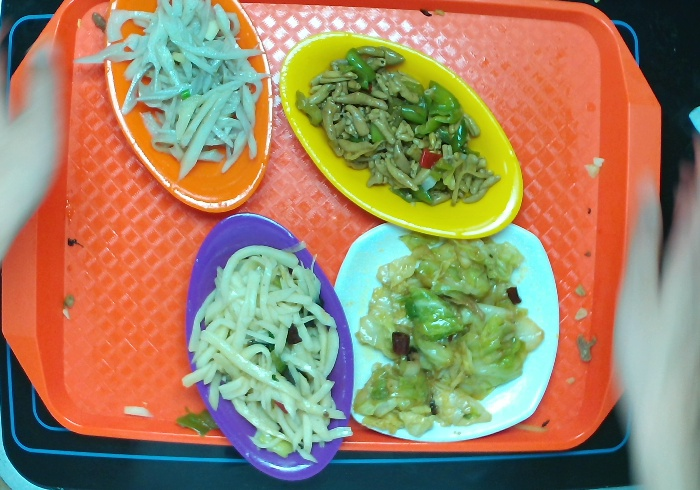RJxy-Fen_Hong_Tuo_Yuan: (182, 209, 358, 483)
RJxy-Huang_Se_Tuo_Yuan: (274, 26, 528, 247)
RJxy-Ju_Huang_Tuo_Yuan: (97, 1, 280, 218)
RJxy-Si_Fang_Die: (325, 214, 564, 446)
